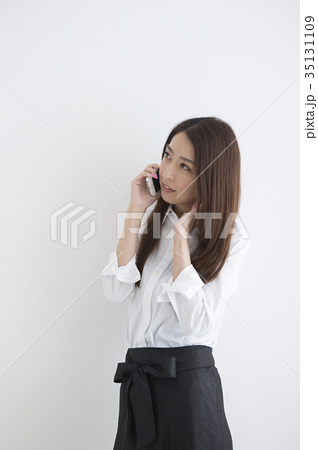phone: (131, 156, 166, 200)
talk: (128, 143, 197, 218)
